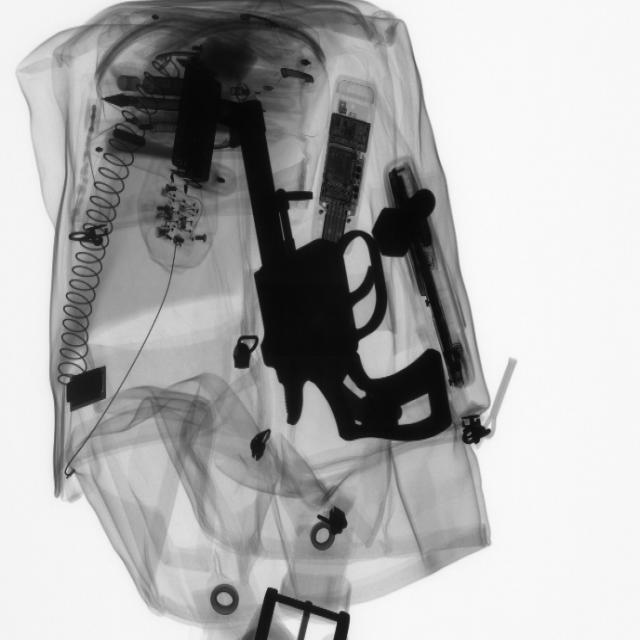GUN: (240, 123, 451, 449)
